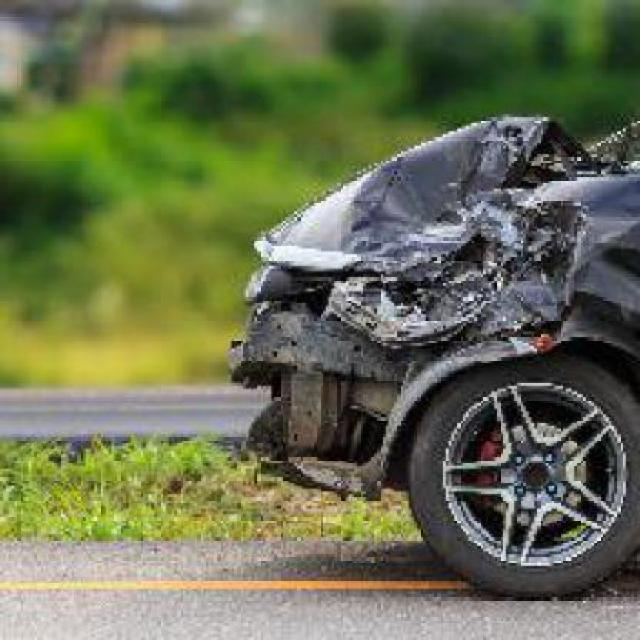damaged-head-light: (300, 260, 496, 354)
